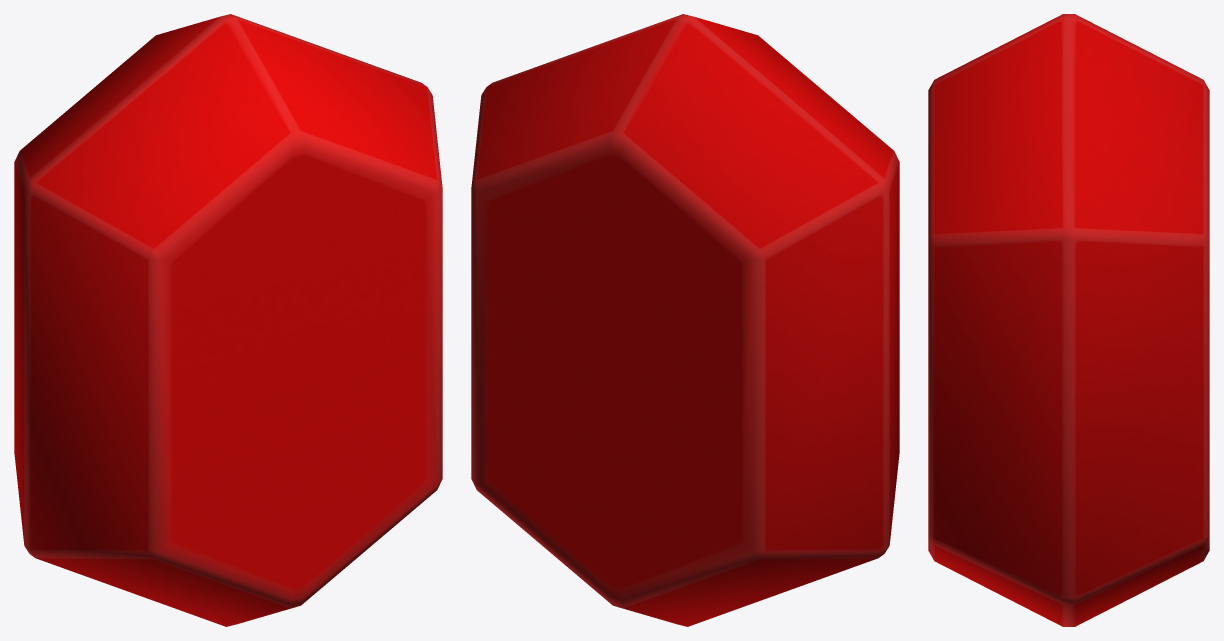
File: Gem02_Red.FBX
3 renders of one model, left to right at view 1: azimuth 30°, elevation 25°; view 2: azimuth 150°, elevation 25°; view 3: azimuth 270°, elevation 25°, orthographic.
Visible parts, largest first — view 1: Gem02_Red; view 2: Gem02_Red; view 3: Gem02_Red.
Part boxes in pixels (left/top/right/bottom): Gem02_Red: left=14, top=14, right=442, bottom=626; Gem02_Red: left=471, top=14, right=899, bottom=626; Gem02_Red: left=928, top=14, right=1209, bottom=626.
Bounding box in the file's own units: 46.56 × 67 × 28.13.
Materials: 1 (1 with a texture image).
